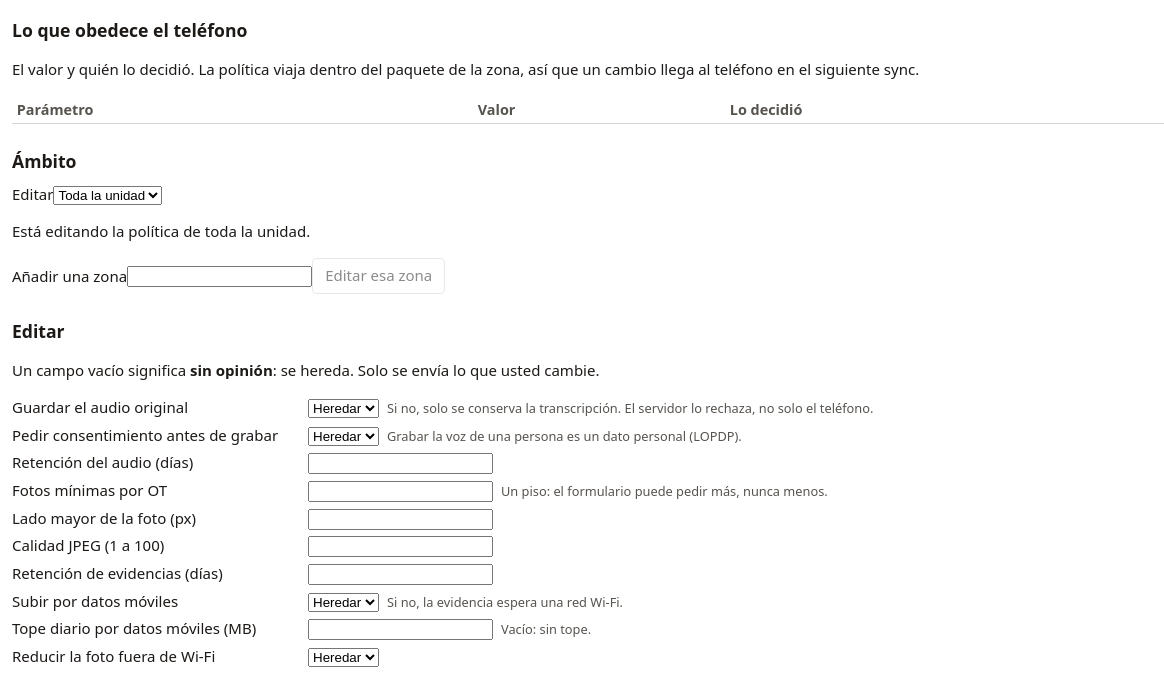
Test: el editor › un valor imposible se avisa antes de mandarlo
This screenshot has width=1164, height=674.
Type "140" into the number field labelled "Calidad JPEG (1 a 100)".
click(400, 547); type("140")  # box [308, 536, 493, 557]
(page scrolled)
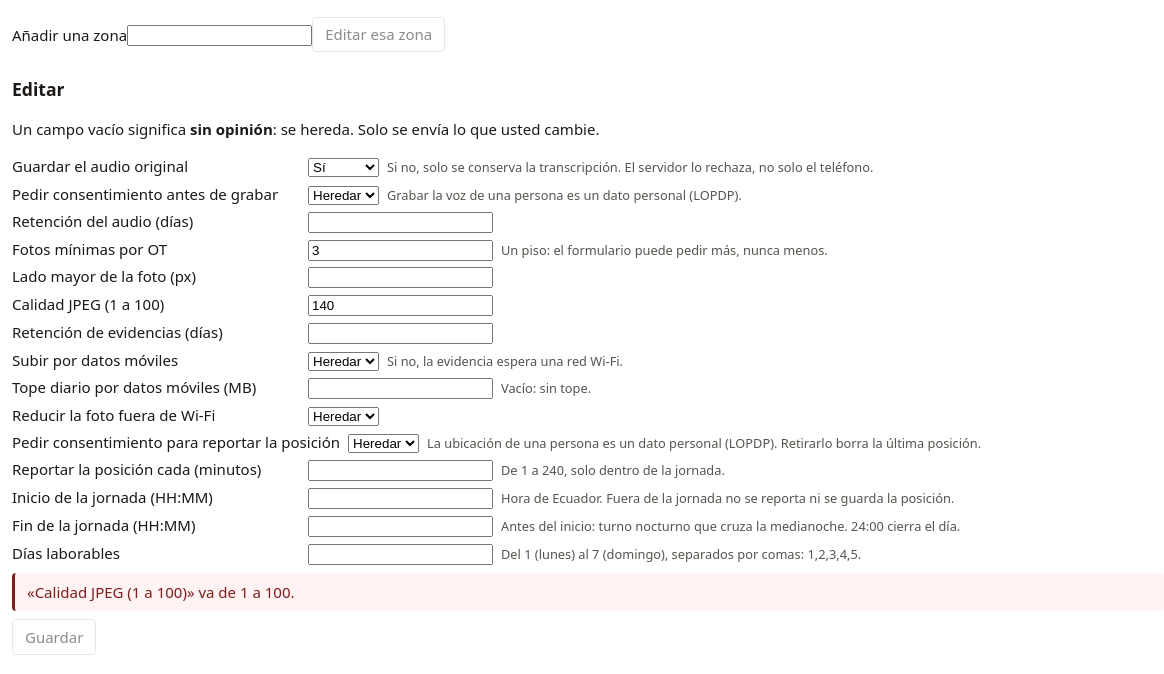
Check: the button "Guardar" is disabled, box [12, 619, 96, 655]
Check: the message shows "1 a 100", box [27, 582, 294, 602]
